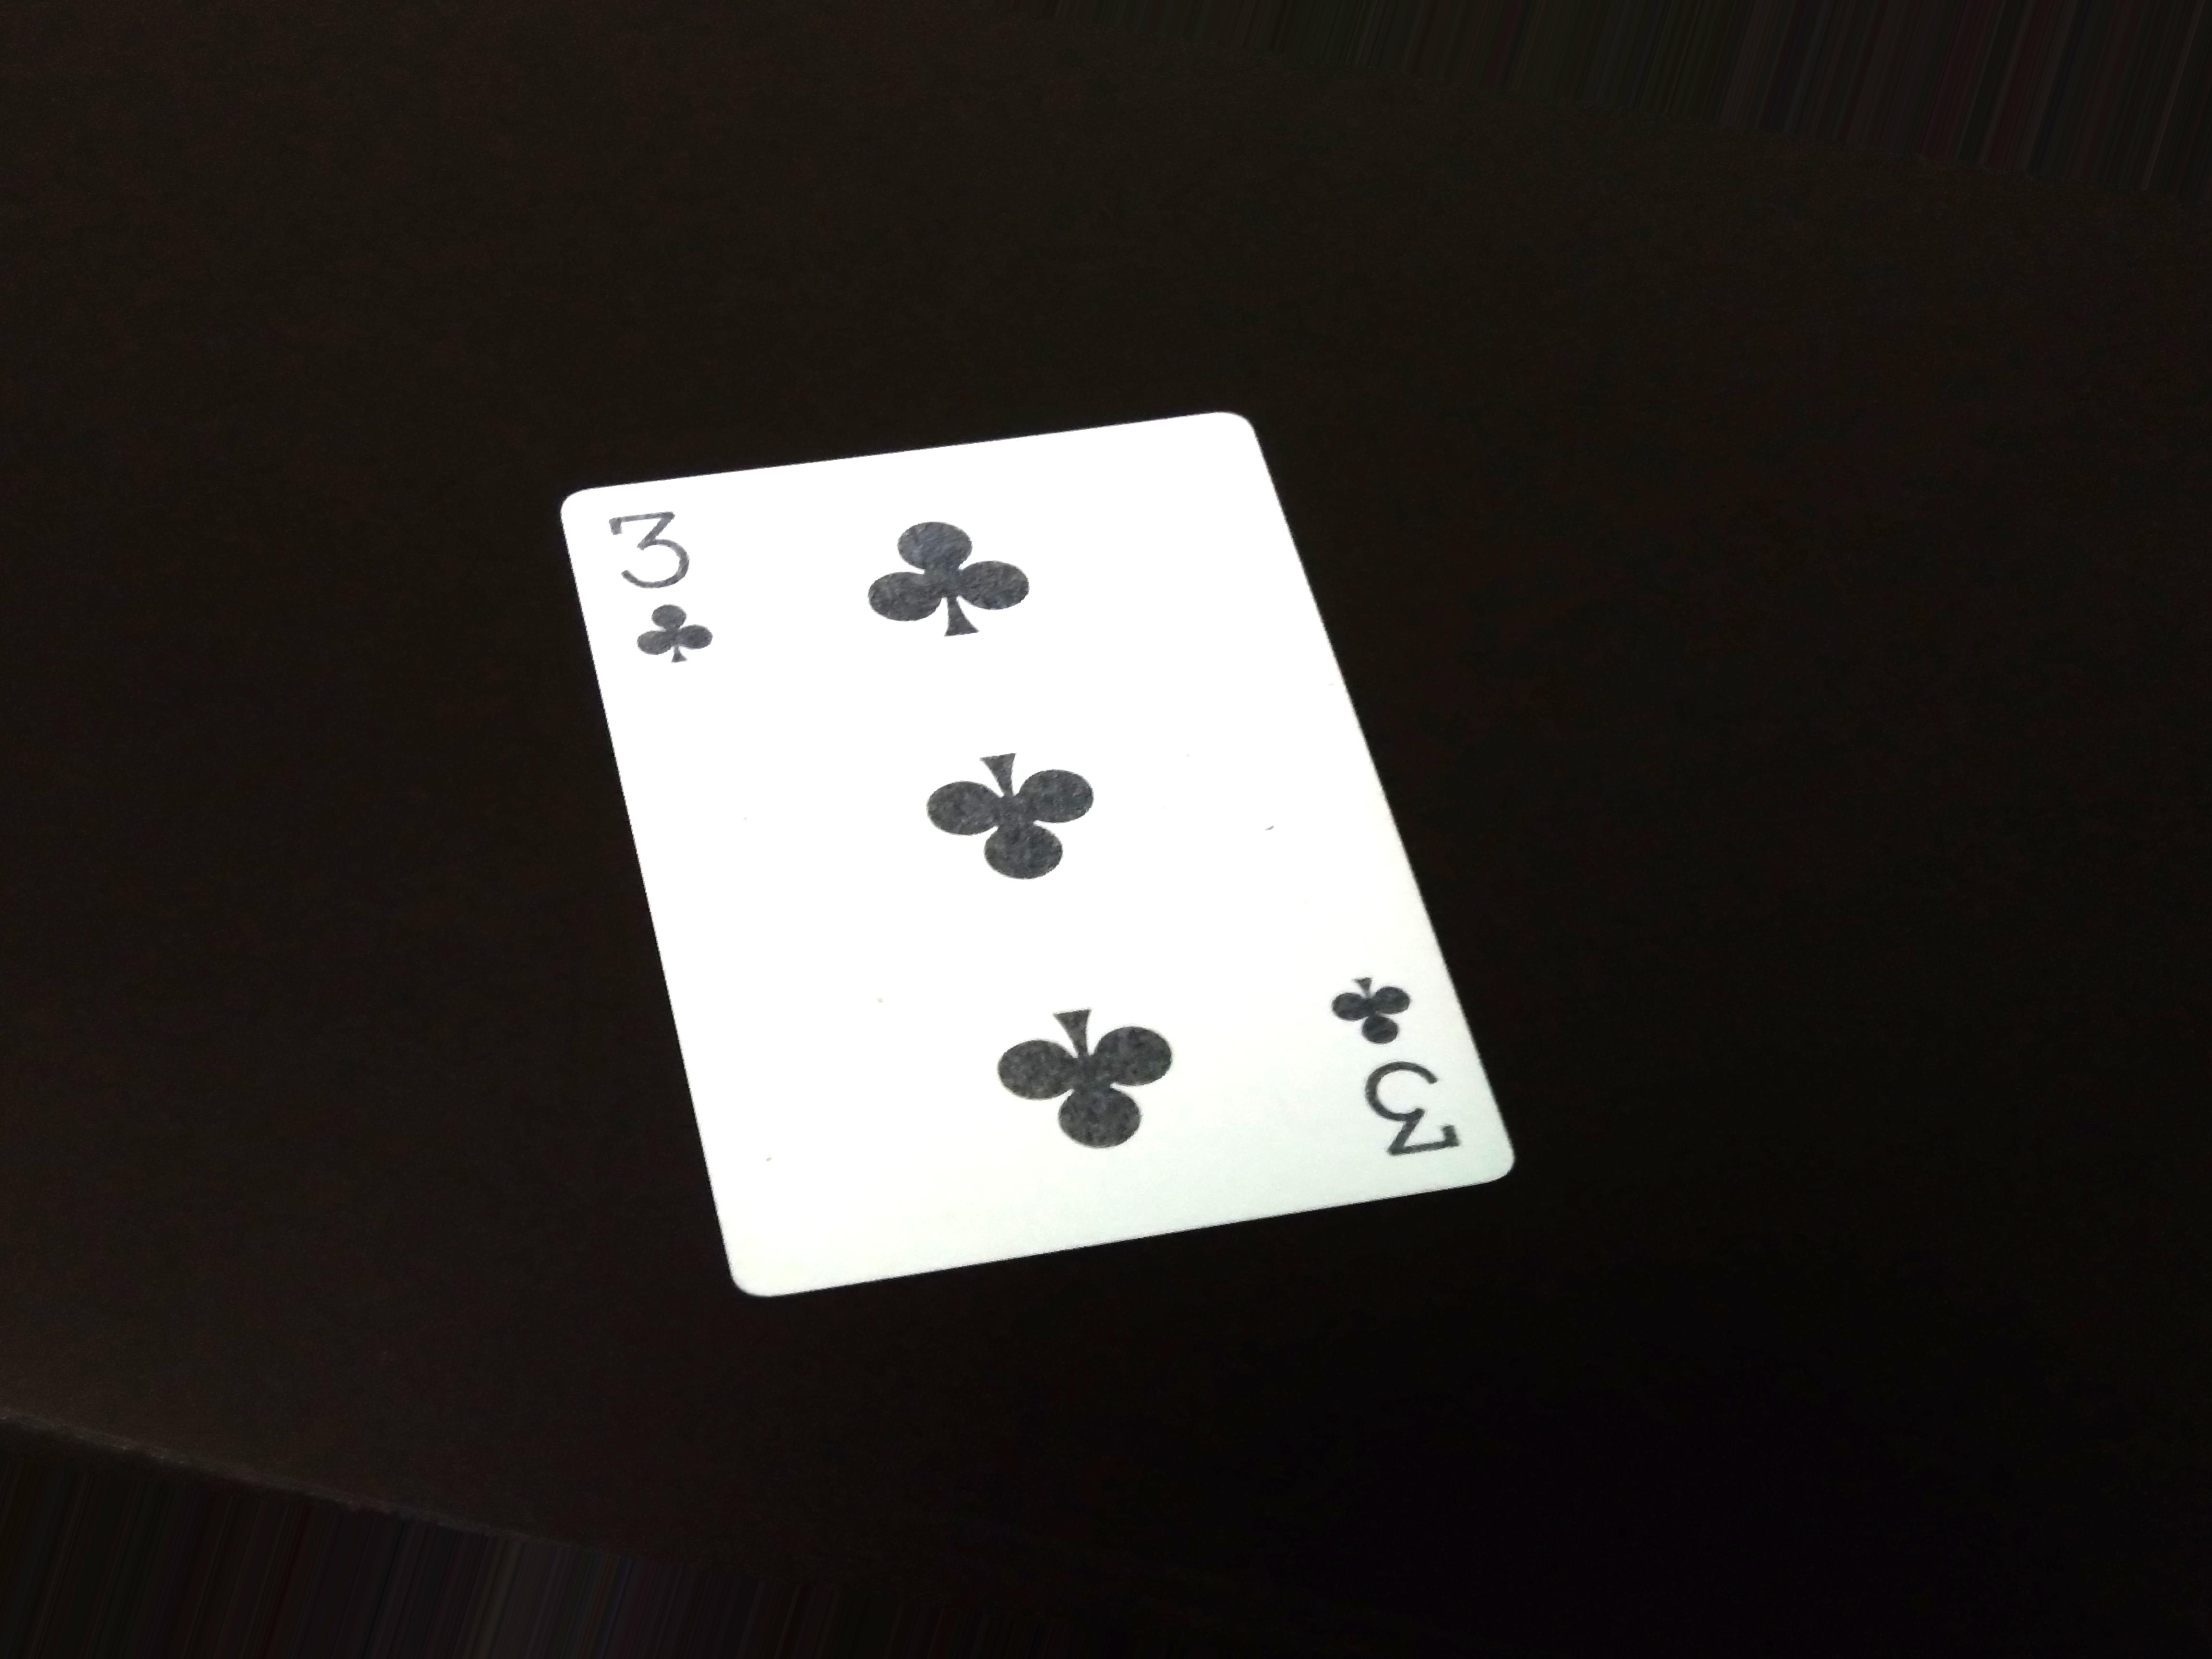3C: (1298, 960, 1479, 1183)
